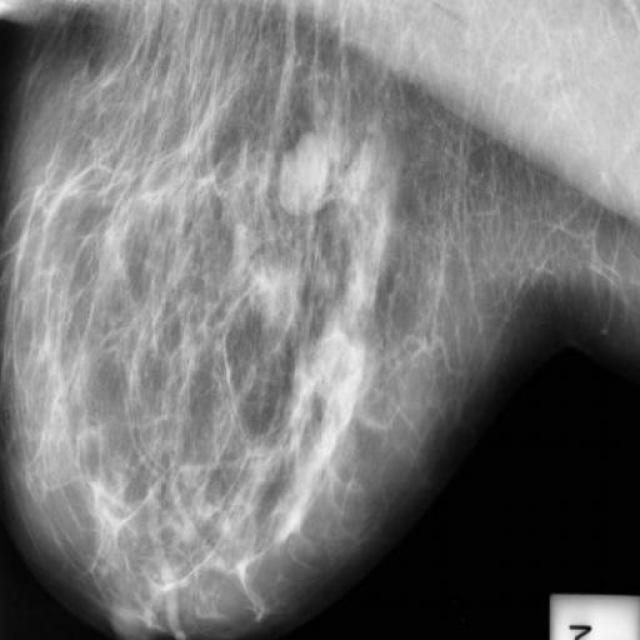cancer: (295, 301, 397, 467)
